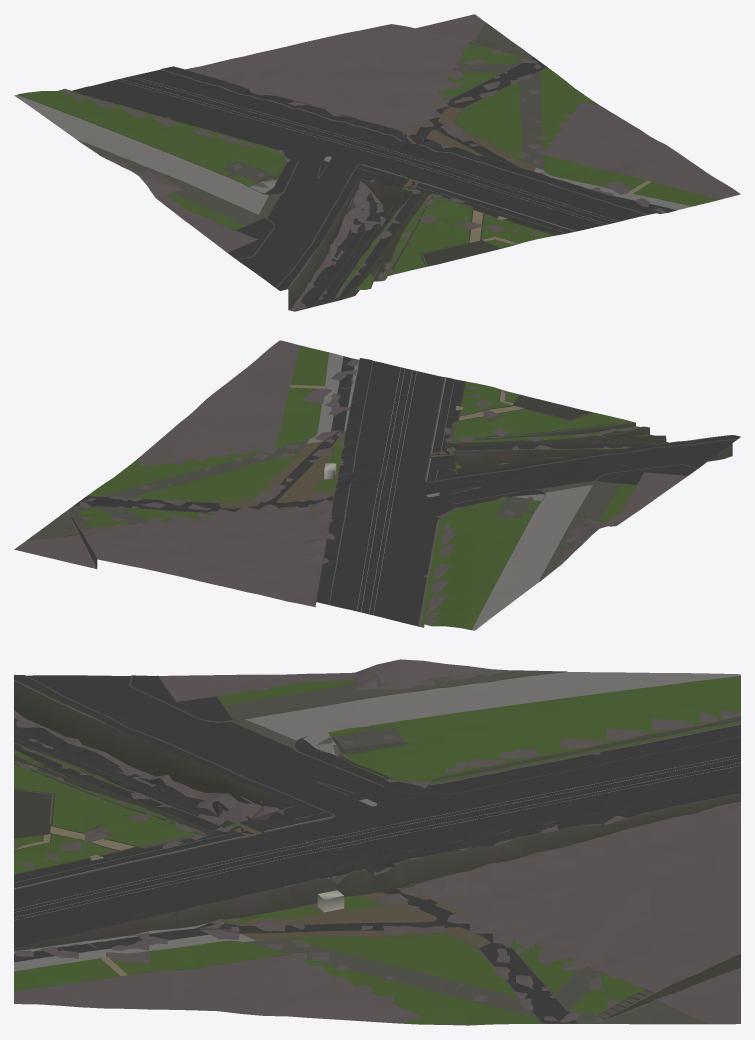
The picture shows the model from 3 angles, top to bottom: view 1: azimuth 30°, elevation 25°; view 2: azimuth 150°, elevation 25°; view 3: azimuth 270°, elevation 25°; orthographic projection. The views are drawn at different scales.
Parts seen in each view (by area): view 1: c_m08_m03; view 2: c_m08_m03; view 3: c_m08_m03.
Part boxes in pixels (x1,y1,x2,y2): c_m08_m03: (14, 14, 740, 311); c_m08_m03: (14, 340, 740, 630); c_m08_m03: (14, 659, 740, 1025).
Size of the model in its own units: 128 by 11.44 by 128.
